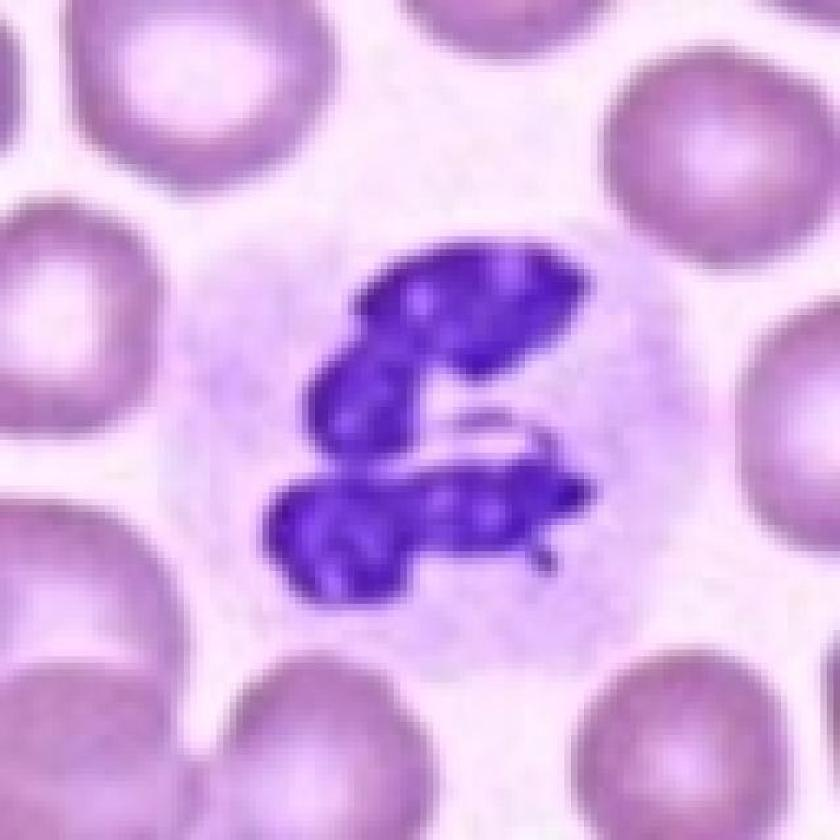neutrophil: (156, 231, 700, 678)
